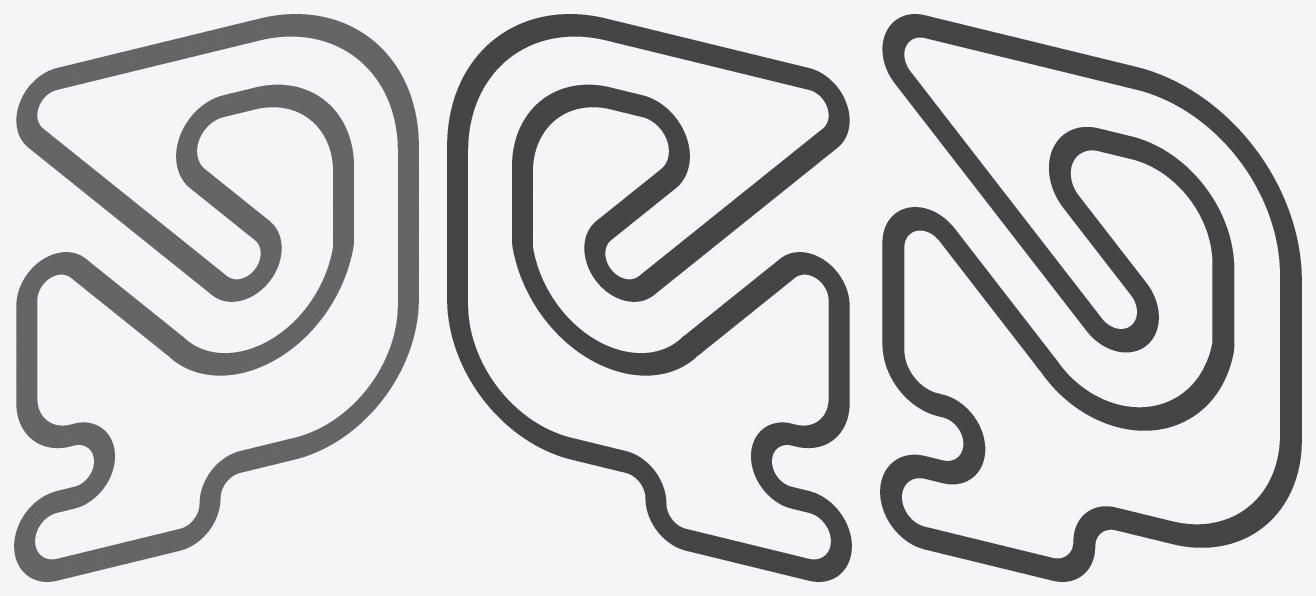
The model's file is Road_83239eb9-6748-4b69-95ae-b39d15e315bf_2.obj.
3 views of the same model, side by side, from view 1: azimuth 30°, elevation 25°; view 2: azimuth 150°, elevation 25°; view 3: azimuth 330°, elevation 25° (orthographic). The views are drawn at different scales.
Visible parts, largest first — view 1: g1; view 2: g1; view 3: g1.
Part boxes in pixels (left/top/right/bottom): g1: left=14, top=14, right=418, bottom=581; g1: left=447, top=14, right=851, bottom=581; g1: left=880, top=14, right=1301, bottom=581.
Bounding box in the file's own units: 115 × 140 × 0.
